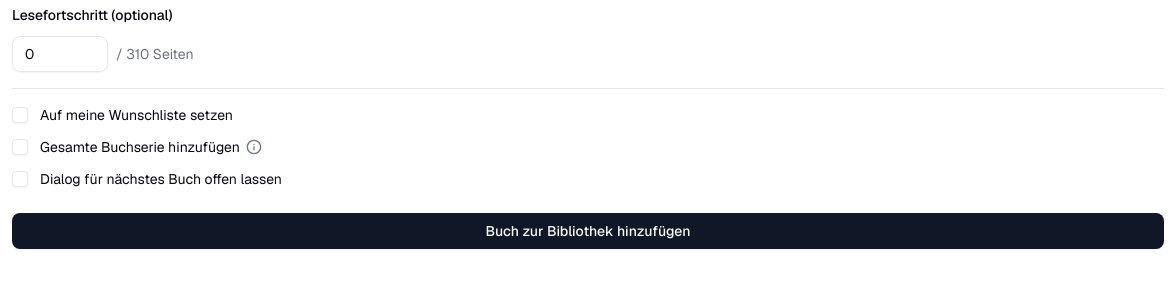
Test: AddBookForm Component › should show "mark all as finished" when "add series" is checked
The image size is (1176, 298).
Expected: the checkbox labelled "alle als gelesen markieren" is not shown
--- Check the "add series" box ---
Click the checkbox named "gesamte buchserie hinzufügen" next to "Gesamte Buchserie hinzufügen". click: click(20, 147)
box: [12,139,28,155]
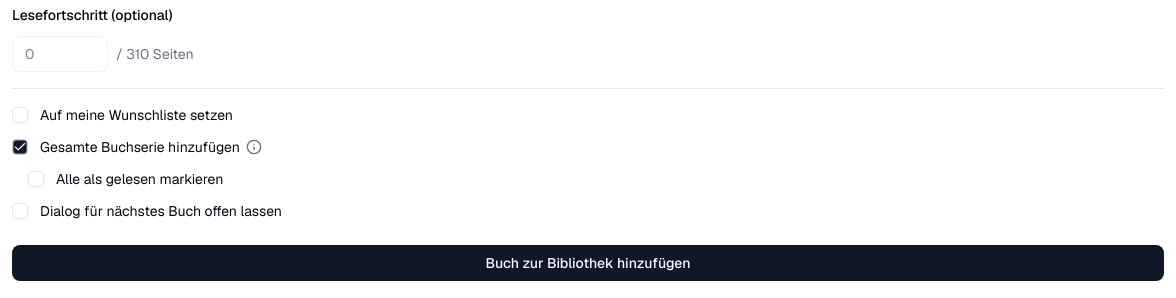
Result: the checkbox named "alle als gelesen markieren" next to "Alle als gelesen markieren" is shown at [28,171,44,187]
